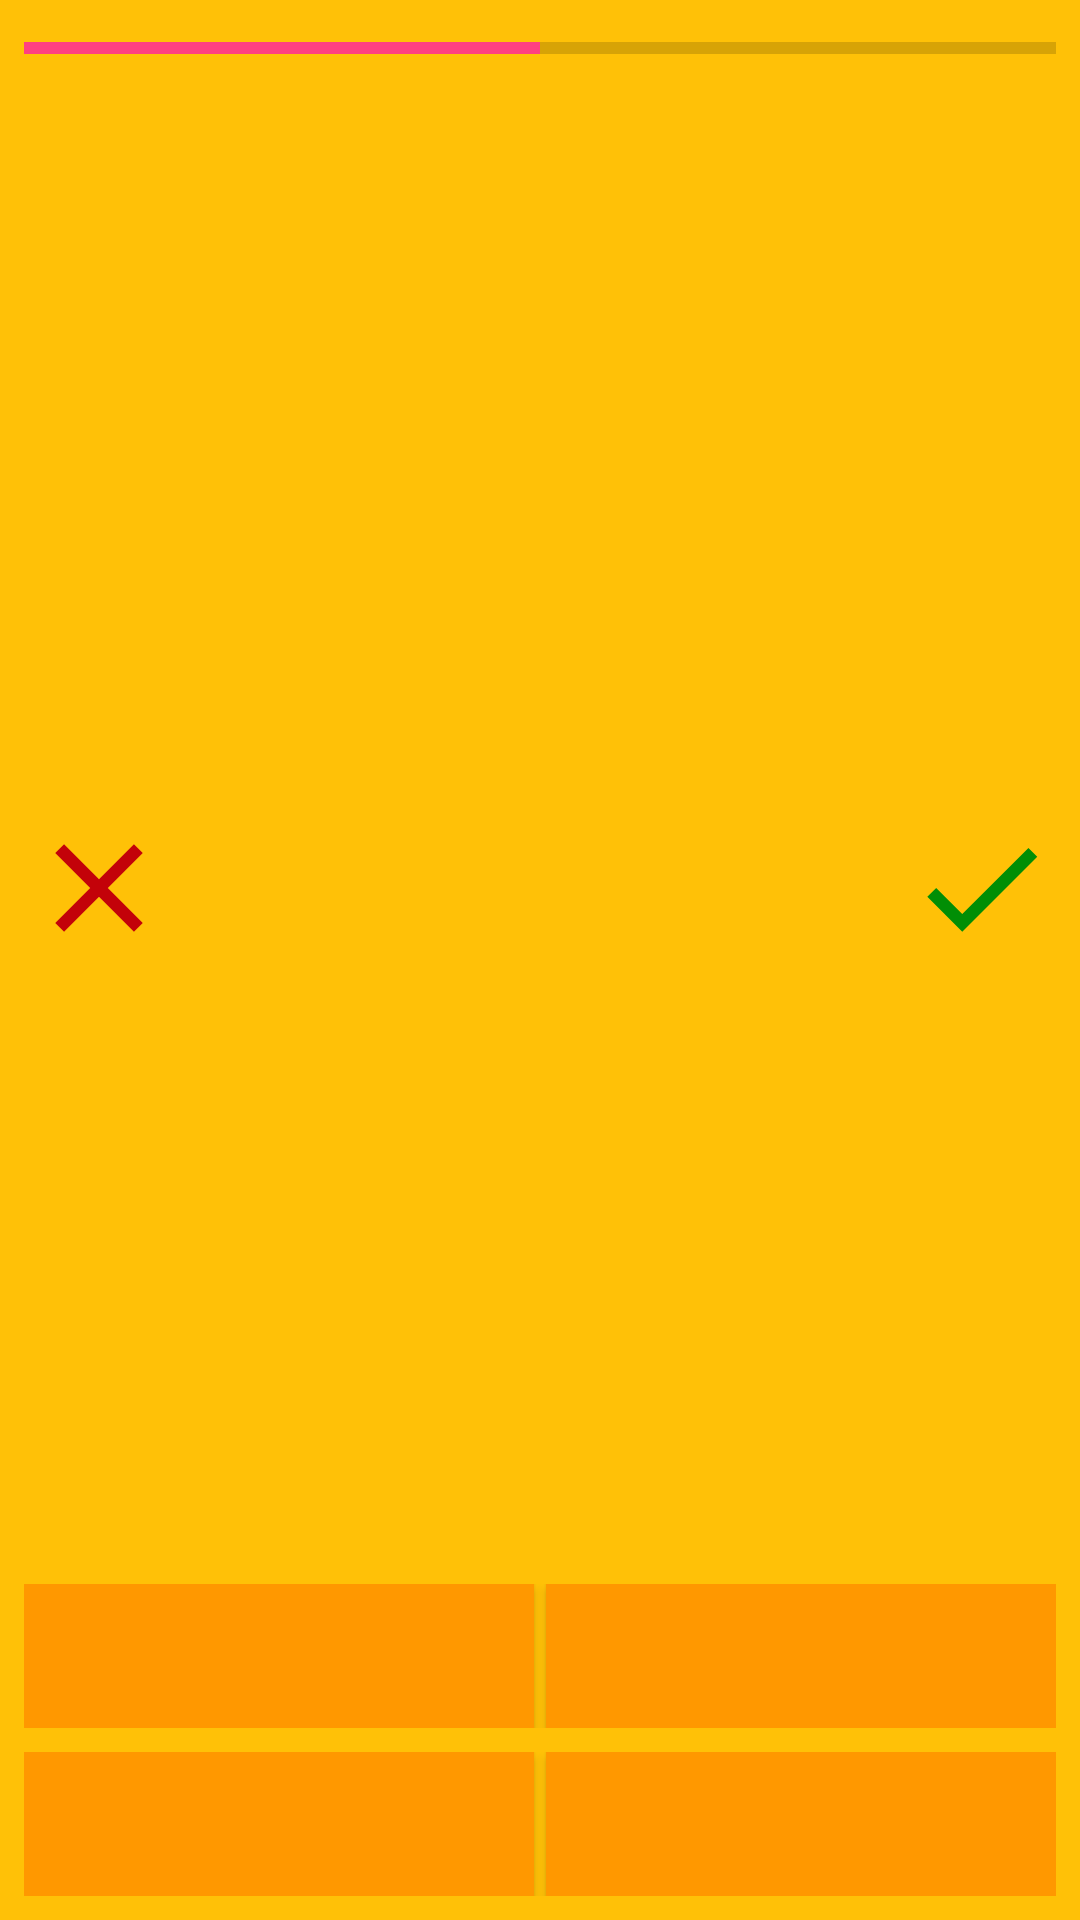

Point at icon controls on the screen. Image size 1080w x 1920h, points as (x,y).
correct: (982,890)
wrong: (99,888)
